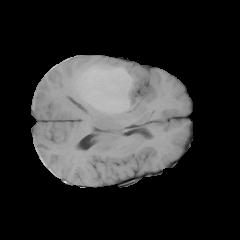glioma: (74, 63, 150, 114)
